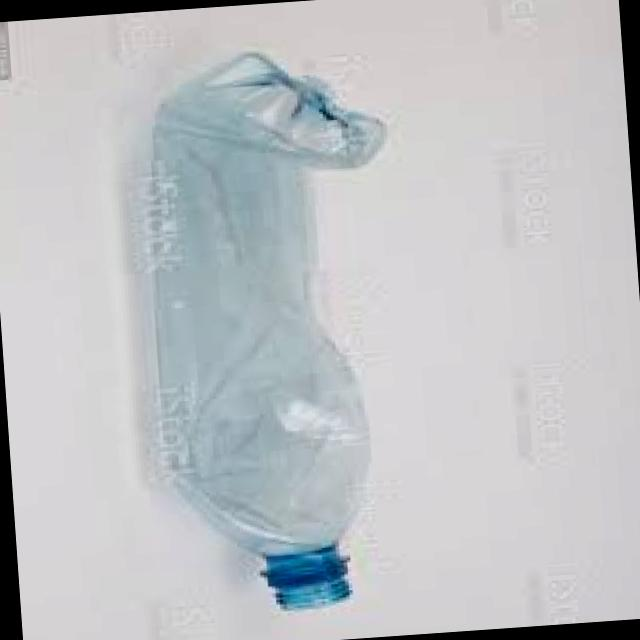plastic: (121, 59, 426, 612)
